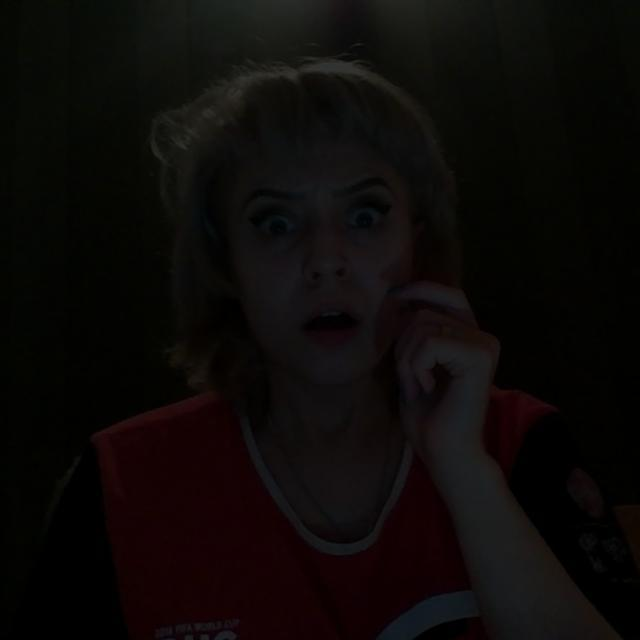Surprised: (143, 113, 459, 395)
